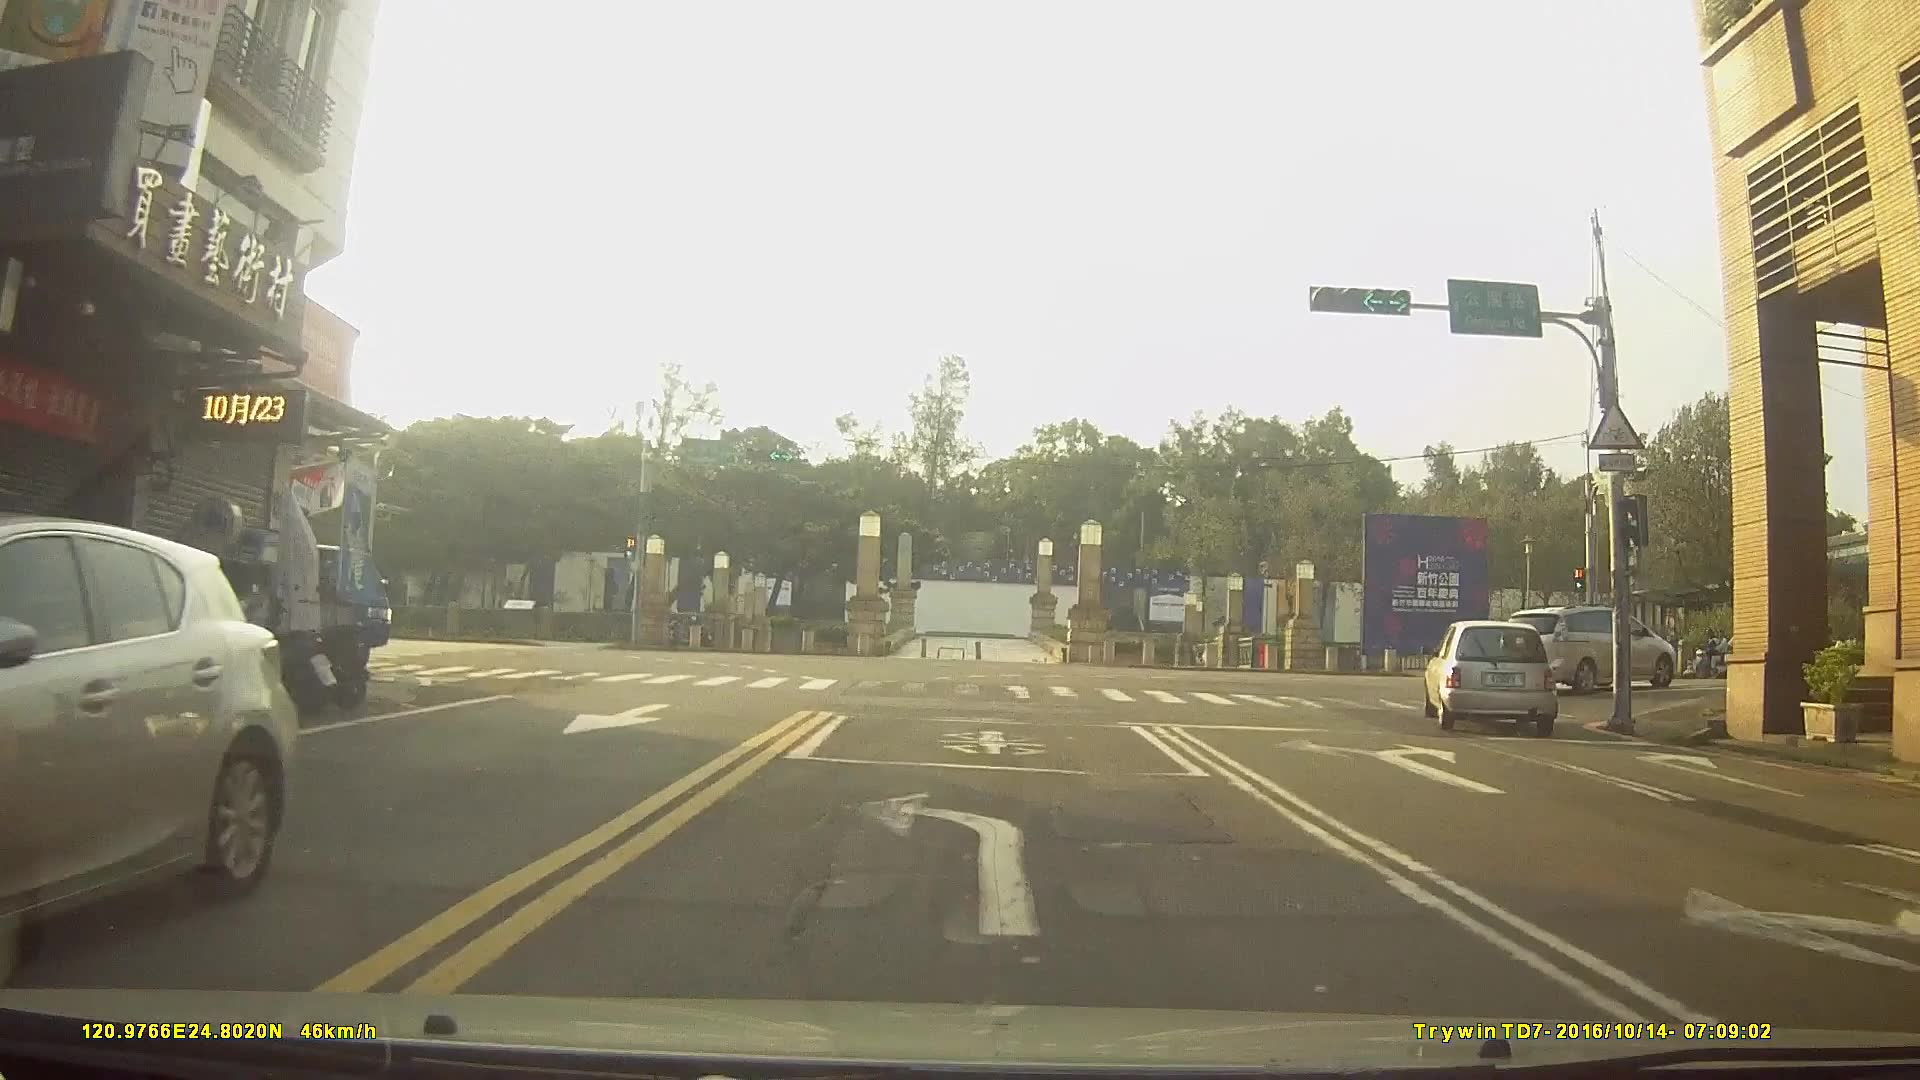vehicle: (0, 510, 298, 949), (1423, 617, 1561, 735), (1506, 603, 1677, 694)
